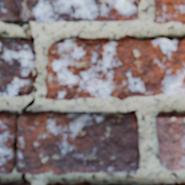brick: (45, 35, 184, 99), (0, 38, 32, 95), (156, 113, 184, 170), (154, 0, 184, 23), (0, 182, 30, 184), (76, 182, 93, 184), (160, 183, 184, 184)
broken_brick: (17, 109, 140, 176), (0, 0, 141, 23), (0, 110, 18, 174)
crack: (0, 2, 38, 182)
